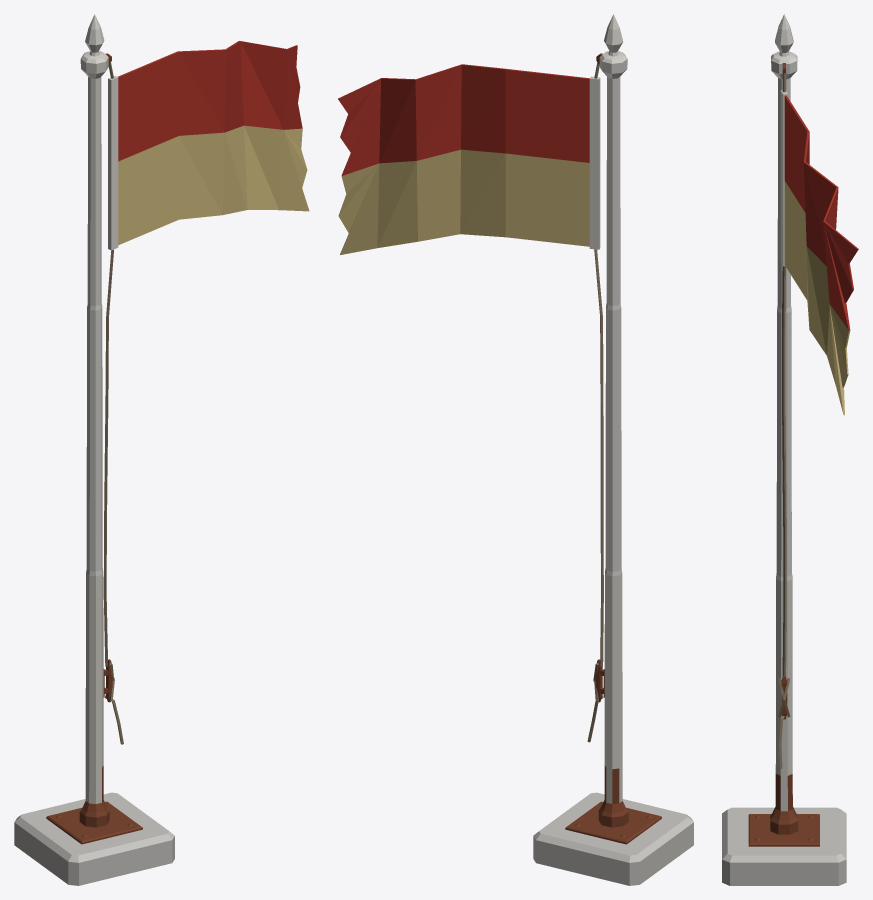
The model's file is beach-flag-pole-2bf334.glb.
3 renders of one model, left to right at view 1: azimuth 30°, elevation 25°; view 2: azimuth 150°, elevation 25°; view 3: azimuth 270°, elevation 25°, orthographic.
Visible parts, largest first — view 1: beach-flag-pole-2bf334; view 2: beach-flag-pole-2bf334; view 3: beach-flag-pole-2bf334.
Boxes of the visible parts, x1,y1,x2,y2 form: beach-flag-pole-2bf334: [14, 14, 309, 885]; beach-flag-pole-2bf334: [338, 14, 693, 885]; beach-flag-pole-2bf334: [722, 14, 858, 885].
Size of the model in its own units: 2.23 by 6 by 0.8796.
